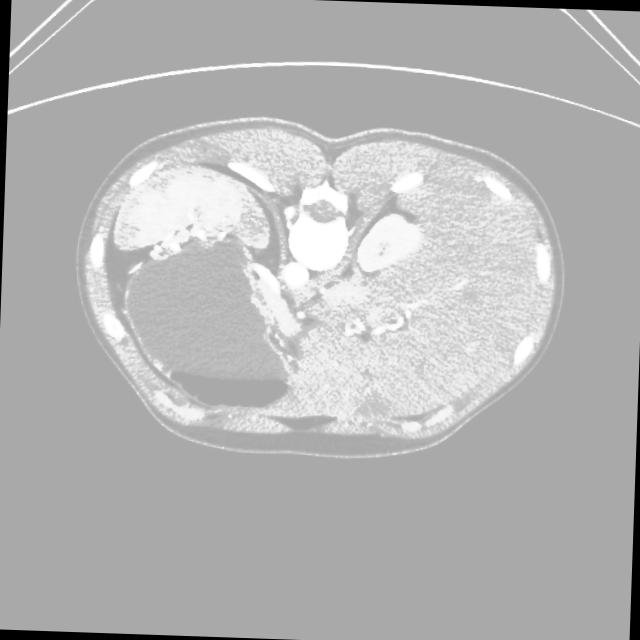NORMAL: (23, 85, 594, 496)
